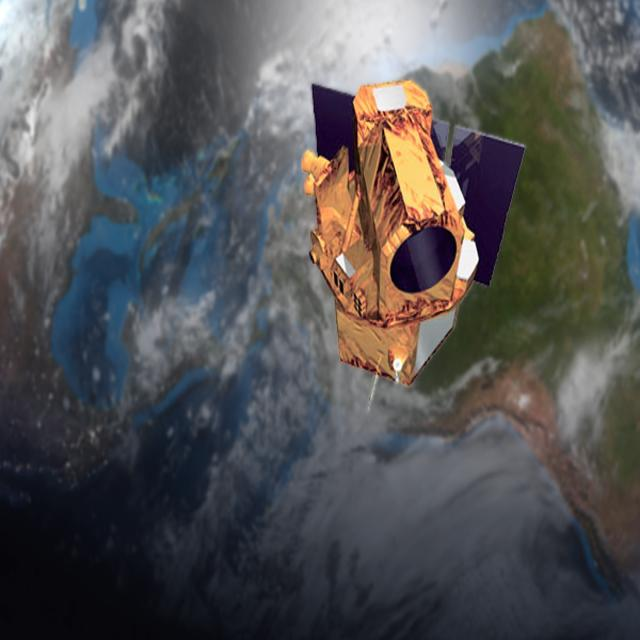medium_debris: (302, 67, 531, 398)
